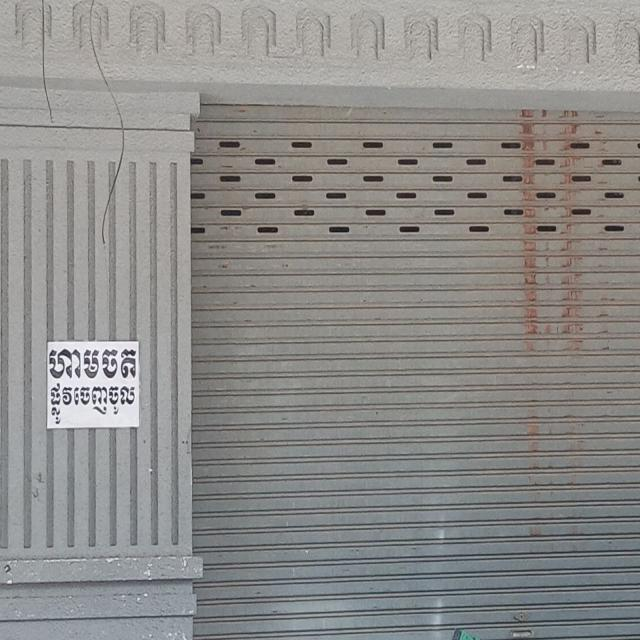Yolov11kh: (26, 379, 158, 435), (39, 337, 153, 382)
